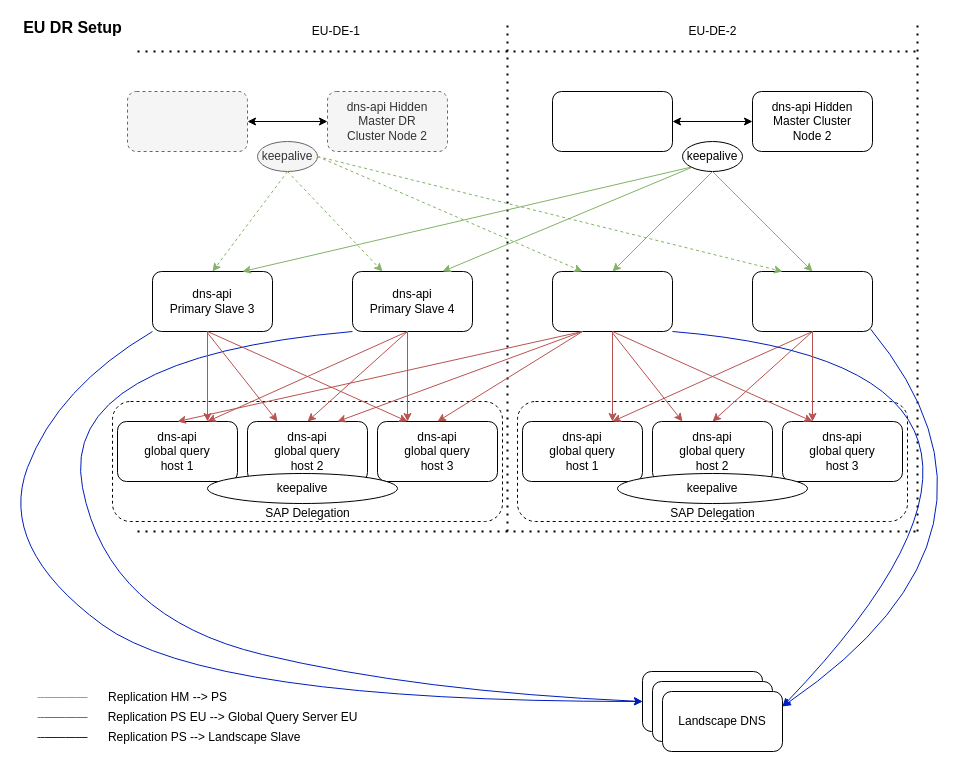
This 955x769 diagram has some shape labels left out. The centre of each missing label's shape, as x and y in pixels:
dns-api Hidden Master Cluster Node 1: point (612, 121)
dns-api Hidden Master DR Cluster Node 1: point (187, 121)
dns-api Primary Slave 1: point (612, 301)
dns-api Primary Slave 2: point (812, 301)
